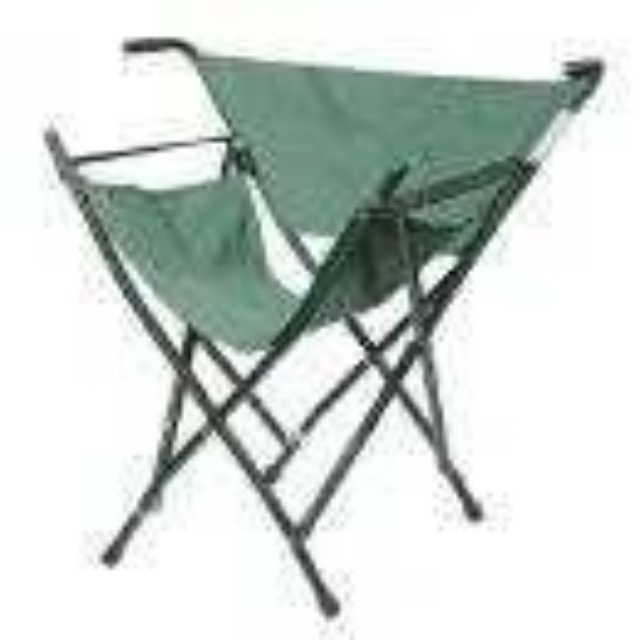obstacle: (44, 38, 596, 612)
